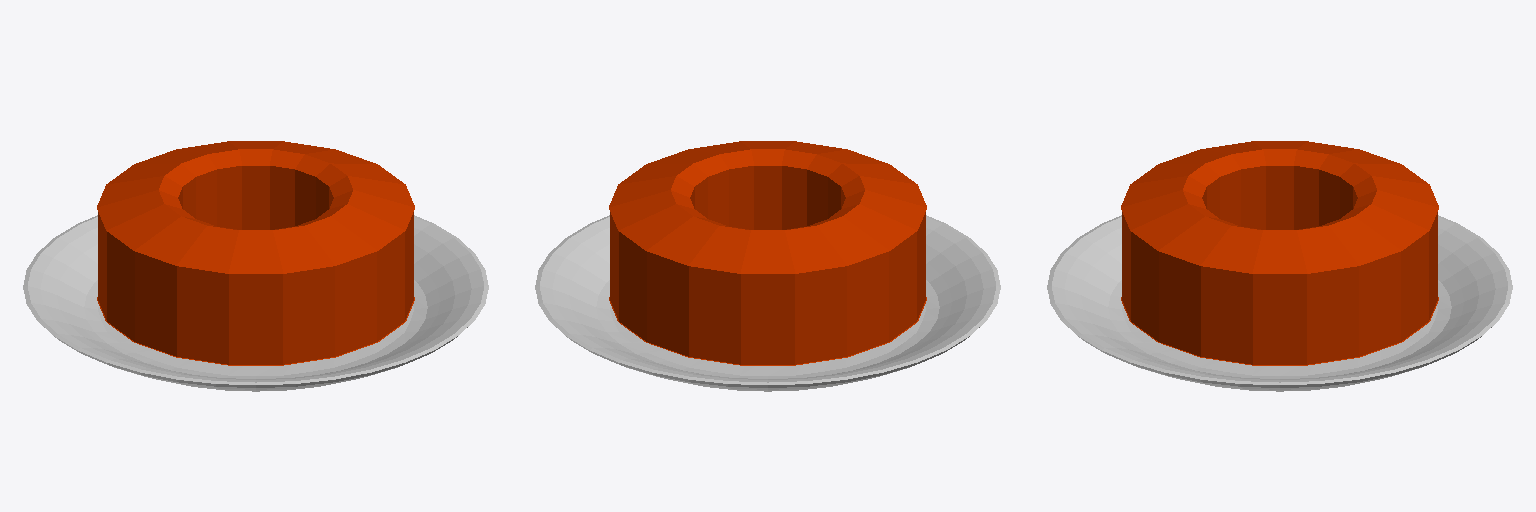
Rendered from BOLU.obj.
The picture shows the model from 3 angles: view 1: azimuth 30°, elevation 25°; view 2: azimuth 150°, elevation 25°; view 3: azimuth 270°, elevation 25°; orthographic projection.
Parts seen in each view (by area): view 1: Cylinder.001, Cylinder; view 2: Cylinder.001, Cylinder; view 3: Cylinder.001, Cylinder.
Part boxes in pixels (bbox=[...]): Cylinder.001: bbox=[97, 141, 414, 365]; Cylinder: bbox=[23, 215, 488, 391]; Cylinder.001: bbox=[609, 141, 926, 365]; Cylinder: bbox=[535, 215, 1000, 391]; Cylinder.001: bbox=[1121, 141, 1438, 365]; Cylinder: bbox=[1047, 215, 1512, 391].
Bounding box in the file's own units: 2.31 × 0.7221 × 2.31.